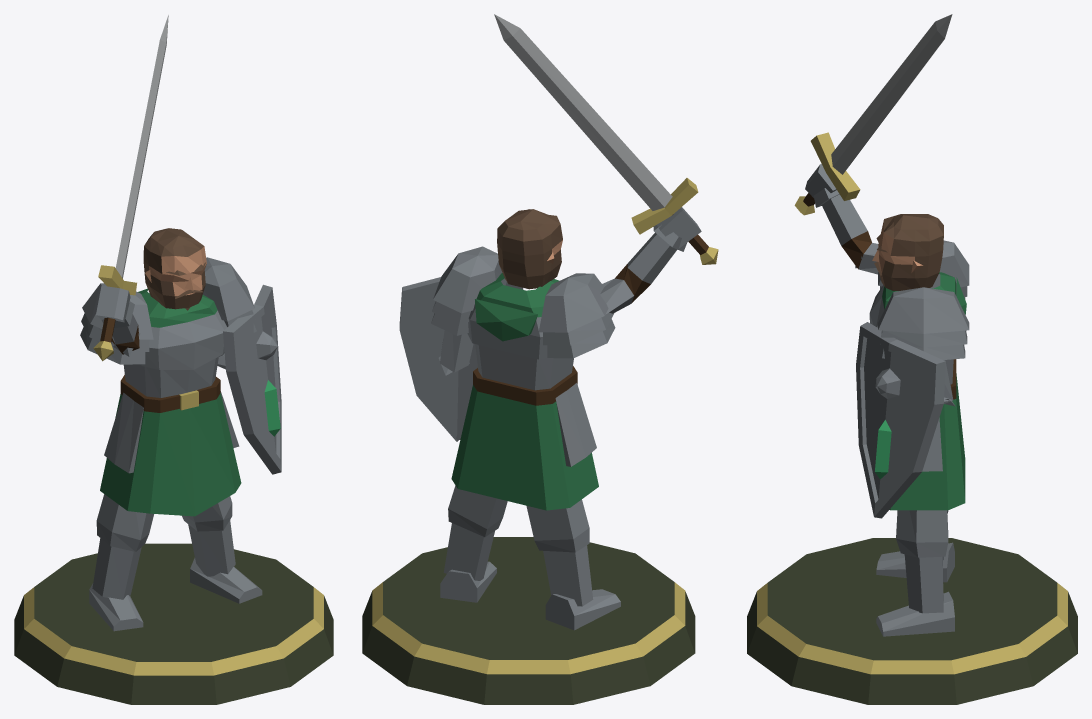
Rendered from fighter-miniature-b6bcac.glb.
The picture shows the model from 3 angles, left to right: view 1: azimuth 30°, elevation 25°; view 2: azimuth 150°, elevation 25°; view 3: azimuth 270°, elevation 25°; orthographic projection. The views are drawn at different scales.
Parts seen in each view (by area): view 1: fighter, head; view 2: fighter, head; view 3: fighter, head.
Boxes of the visible parts, x1=… form: fighter: x1=14, y1=15, x2=333, y2=704; head: x1=143, y1=228, x2=206, y2=310; fighter: x1=362, y1=14, x2=718, y2=704; head: x1=497, y1=209, x2=562, y2=289; fighter: x1=747, y1=14, x2=1077, y2=704; head: x1=872, y1=214, x2=943, y2=290.
Size of the model in its own units: 0.025 by 0.0524 by 0.025.
